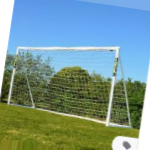goals: (7, 43, 134, 129)
